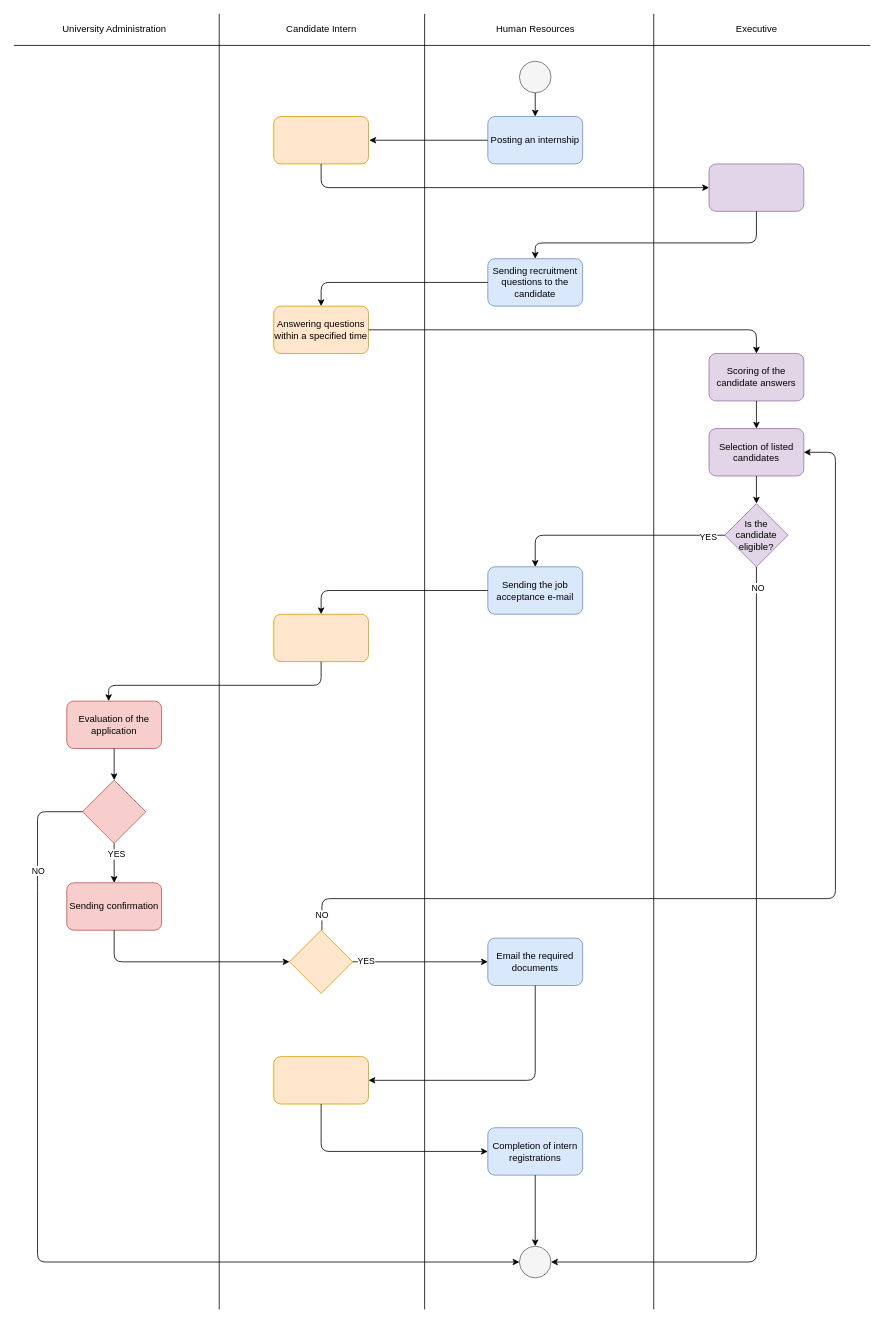
This 885x1324 diagram has some shape labels left out. The shapes that lost their labels are listed below. From the top down, each one's centre as x and y in pixels, then its label:
[321,140]: Applying for an internship
[756,187]: Determining intern recruitment questions
[321,637]: Internship application
[114,811]: Has the application been approved?
[321,961]: Will the student do internship?
[321,1080]: Submitting documents
